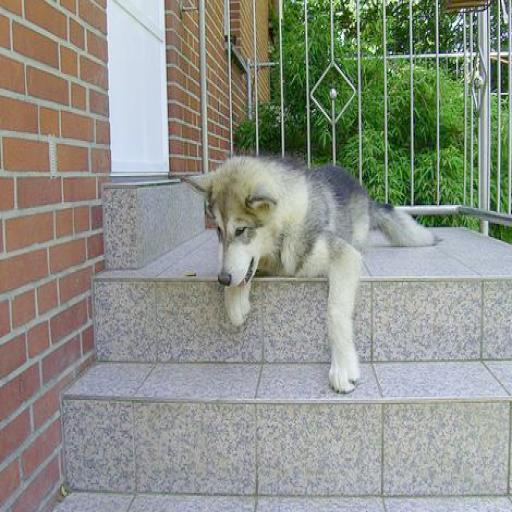dog_face: (192, 167, 282, 293)
